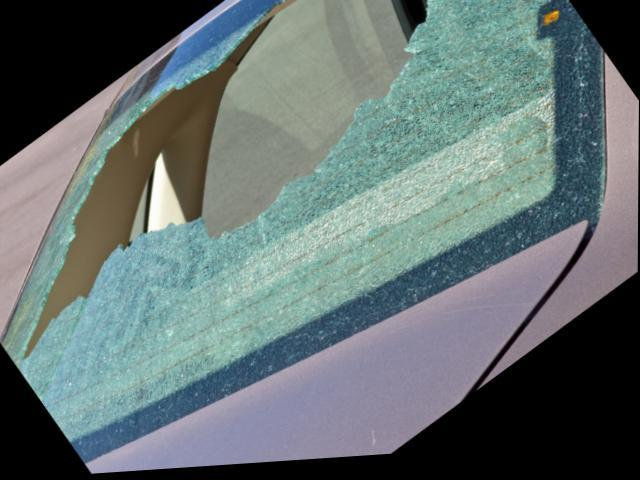glass shatter: (2, 0, 606, 464)
